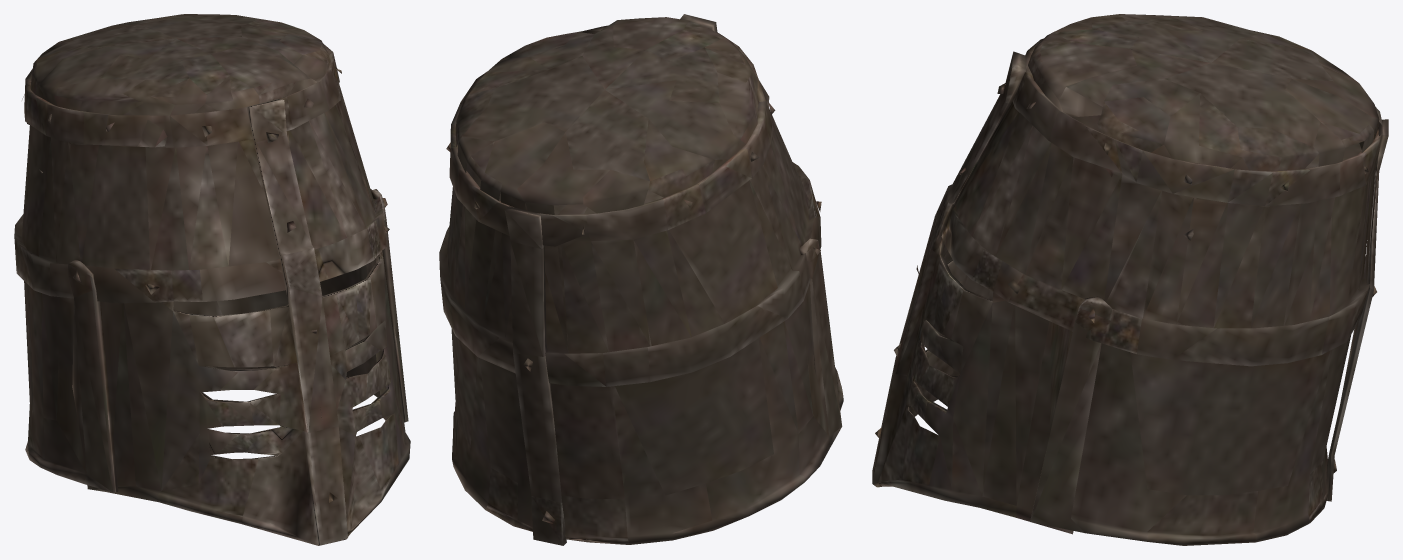
The model's file is g_helm.glb.
3 views of the same model, side by side, from view 1: azimuth 30°, elevation 25°; view 2: azimuth 150°, elevation 25°; view 3: azimuth 270°, elevation 25° (orthographic). The views are drawn at different scales.
Visible parts, largest first — view 1: g_helm; view 2: g_helm; view 3: g_helm.
Boxes of the visible parts, x1=… form: g_helm: x1=14, y1=14, x2=410, y2=545; g_helm: x1=439, y1=14, x2=843, y2=545; g_helm: x1=872, y1=14, x2=1388, y2=545.
Bounding box in the file's own units: 0.2707 × 0.3241 × 0.34.
1 material, 1 textured.
